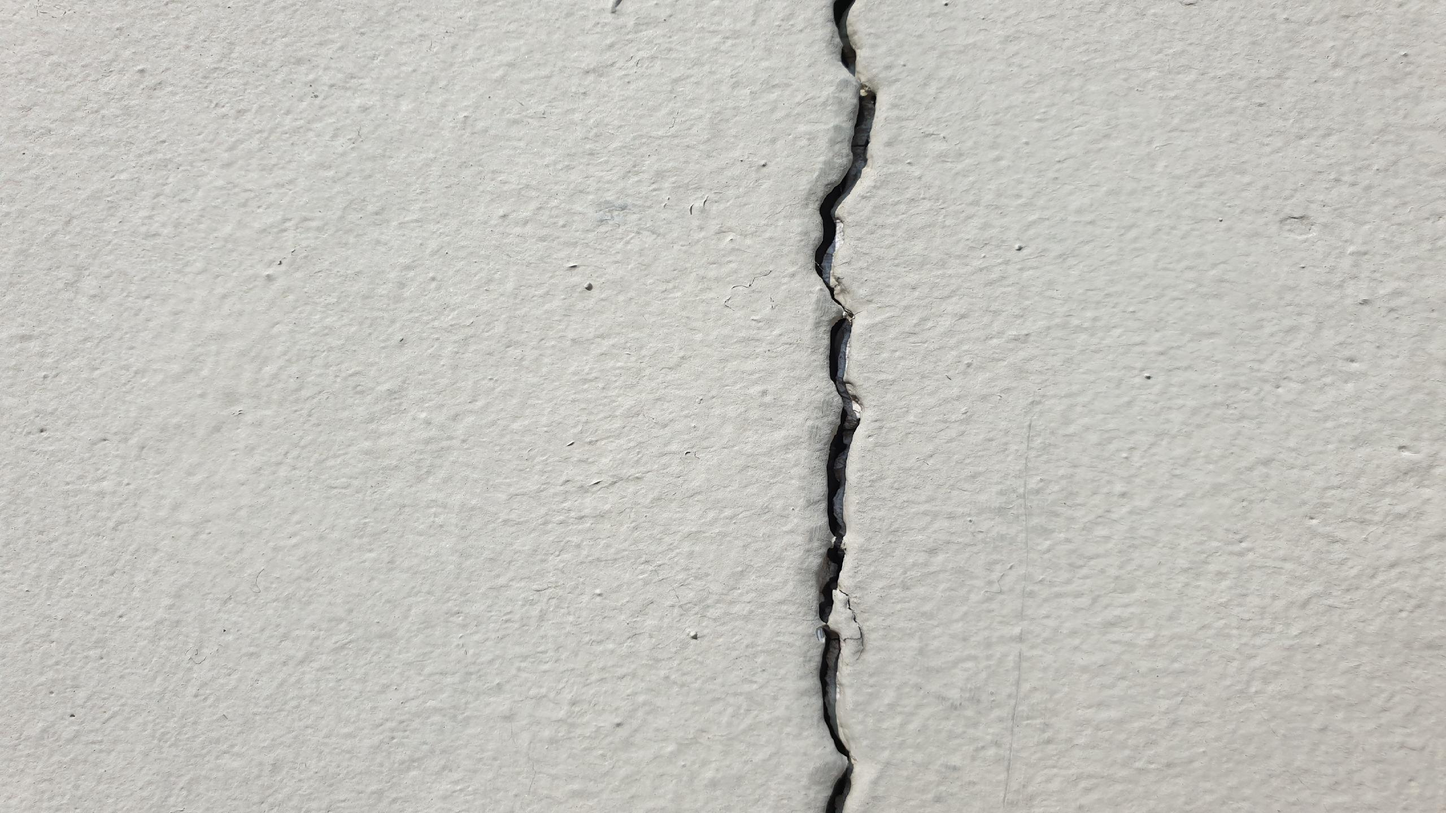crack: (799, 5, 892, 807)
